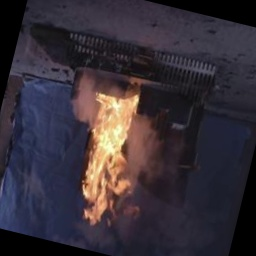fire: (60, 69, 175, 246)
